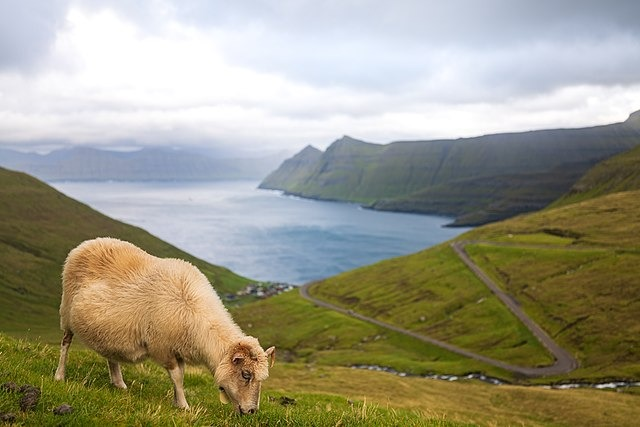grazing: (54, 236, 278, 417)
